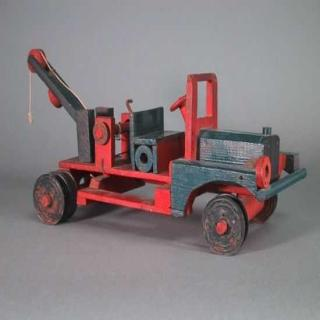Towing_truck: (25, 46, 308, 257)
